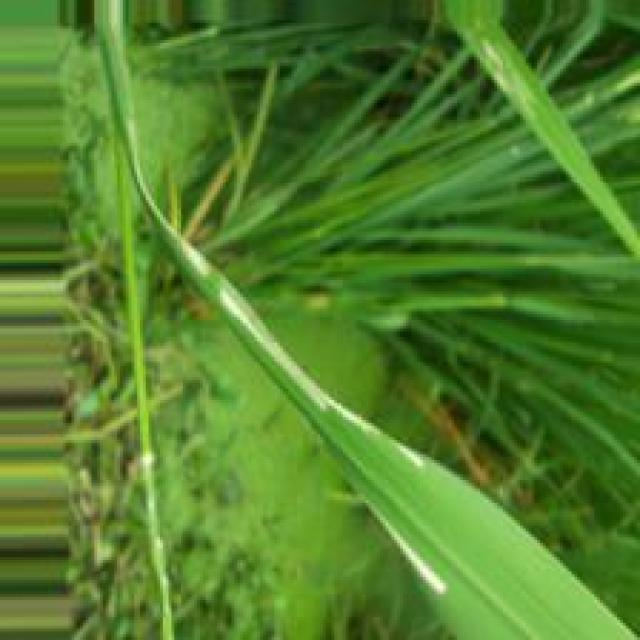Rice_Hispa: (217, 280, 386, 440), (376, 513, 449, 599)
